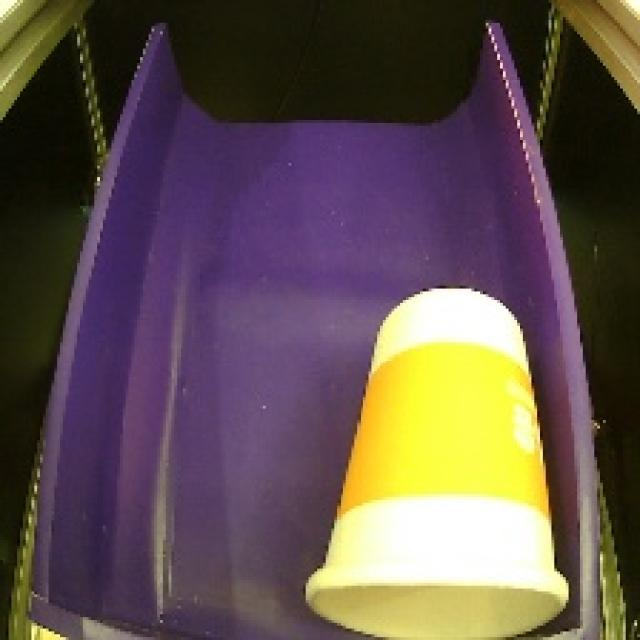cups: (292, 268, 580, 640)
